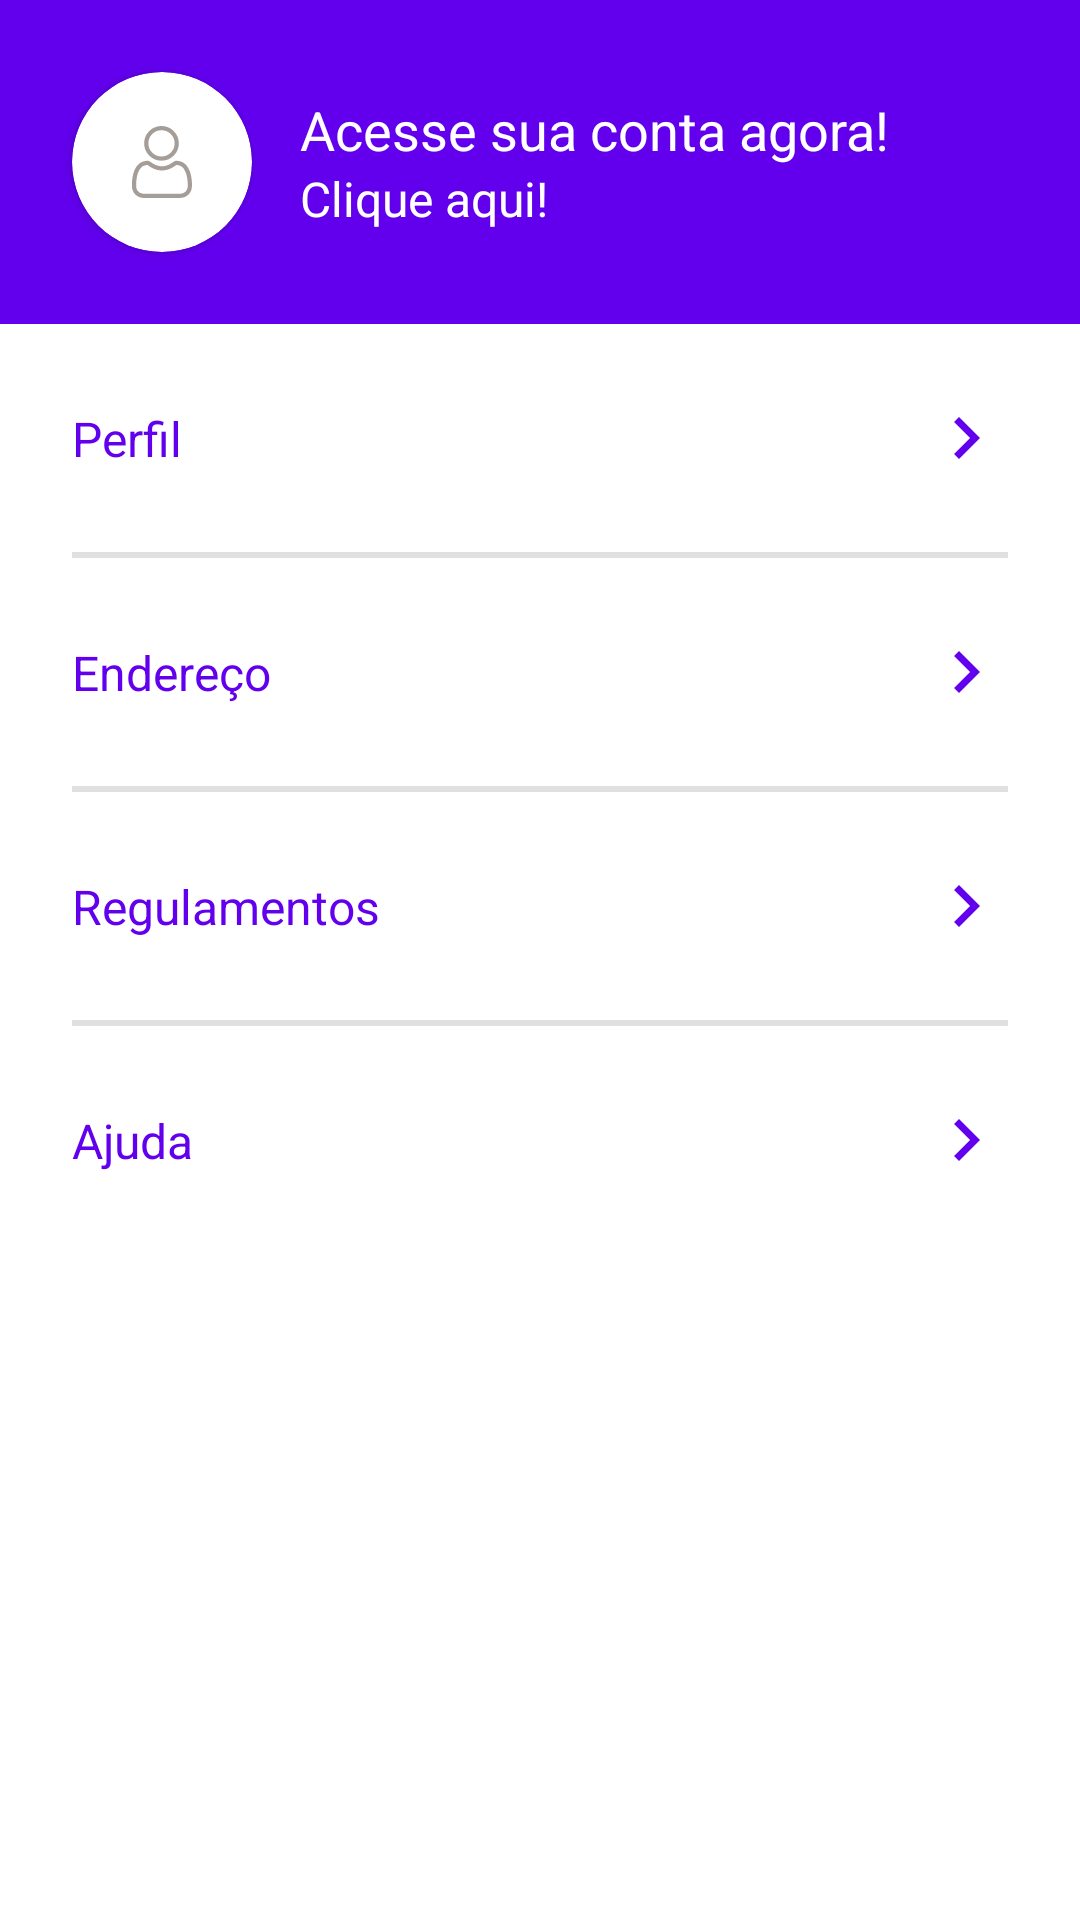

Named icons in this screenshot (1080 x 1920) and their bounding boxes, [x1=x1, y1=y1, x2=x2, y2=y2]:
user perfil: [x1=72, y1=72, x2=252, y2=252]
